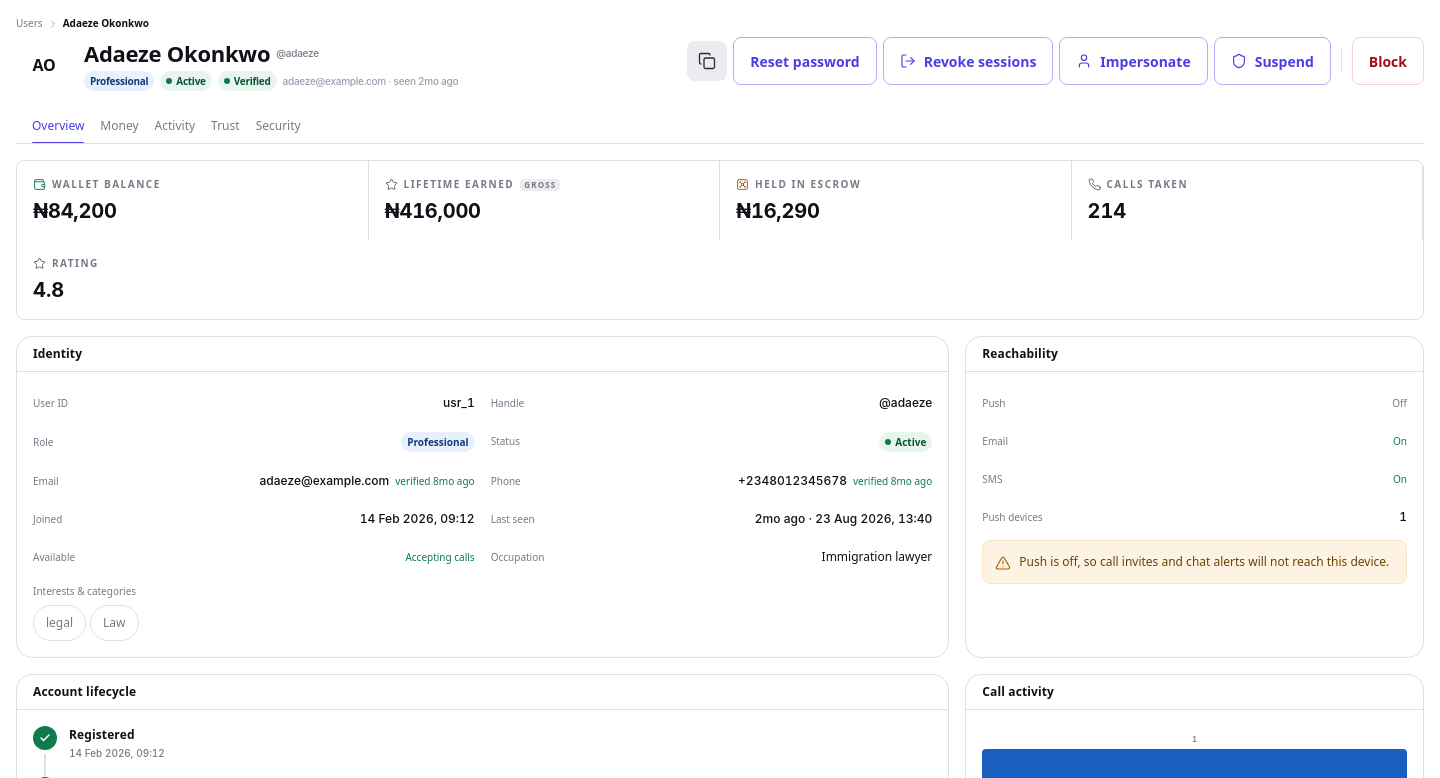
the user detail screen › renders every tab without throwing
Click the tab "Money" at point(120, 126), box [100,109,139,143]
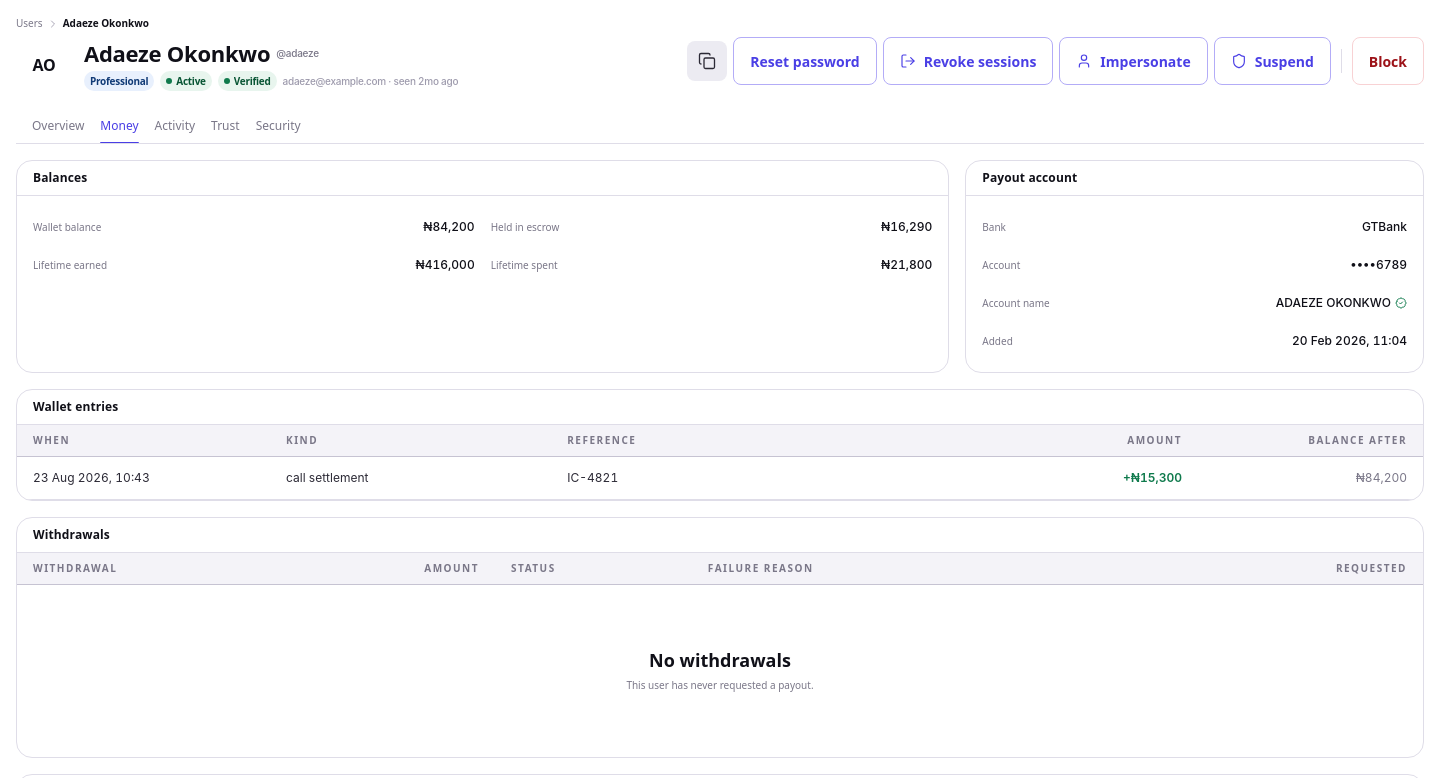
Expected: the text "Payout account" is shown, [982,169,1077,186]
Click the tab "Activity" at point(175, 126), box [155,109,195,143]
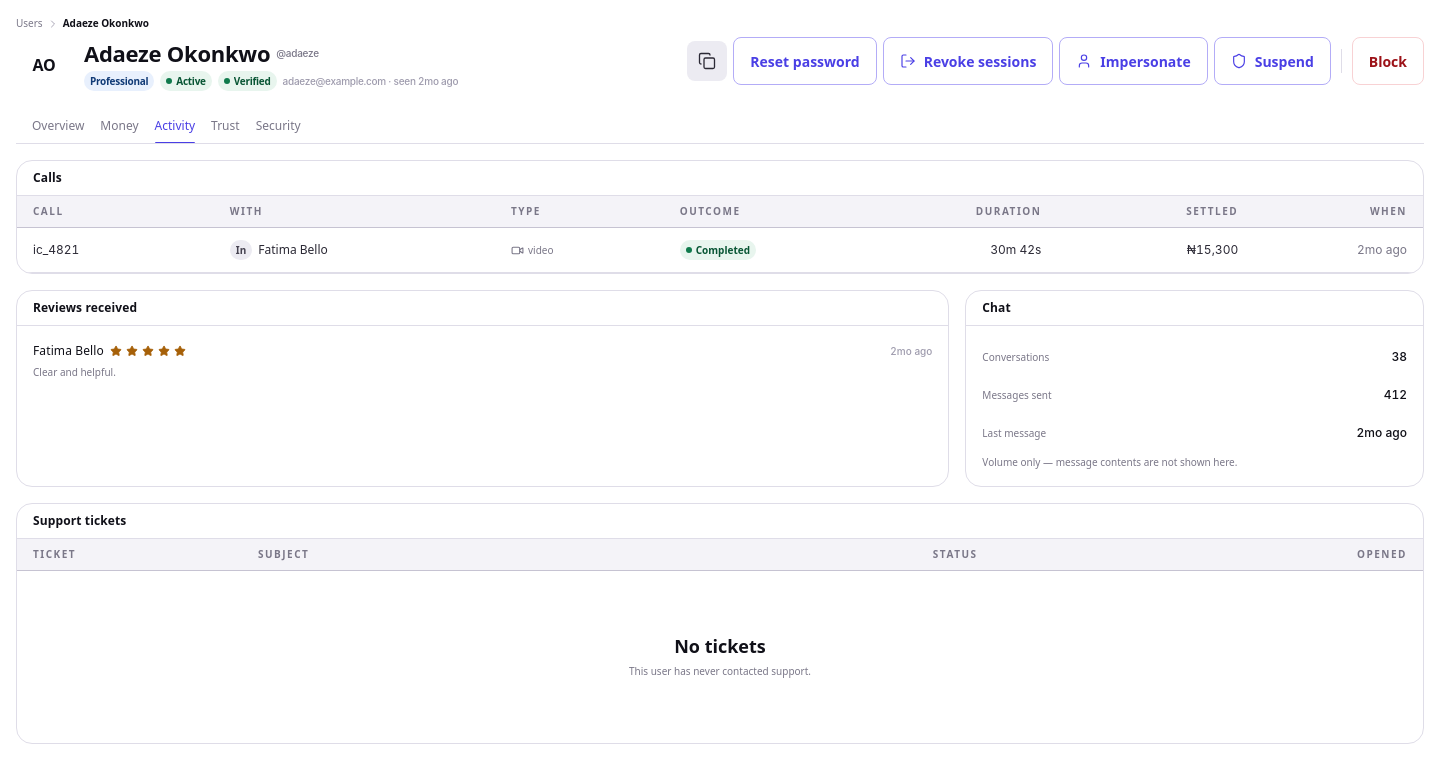
Expected: the text "Support tickets" is shown, [33,512,126,529]
Click the tab "Trust" at point(225, 126), box [211,109,240,143]
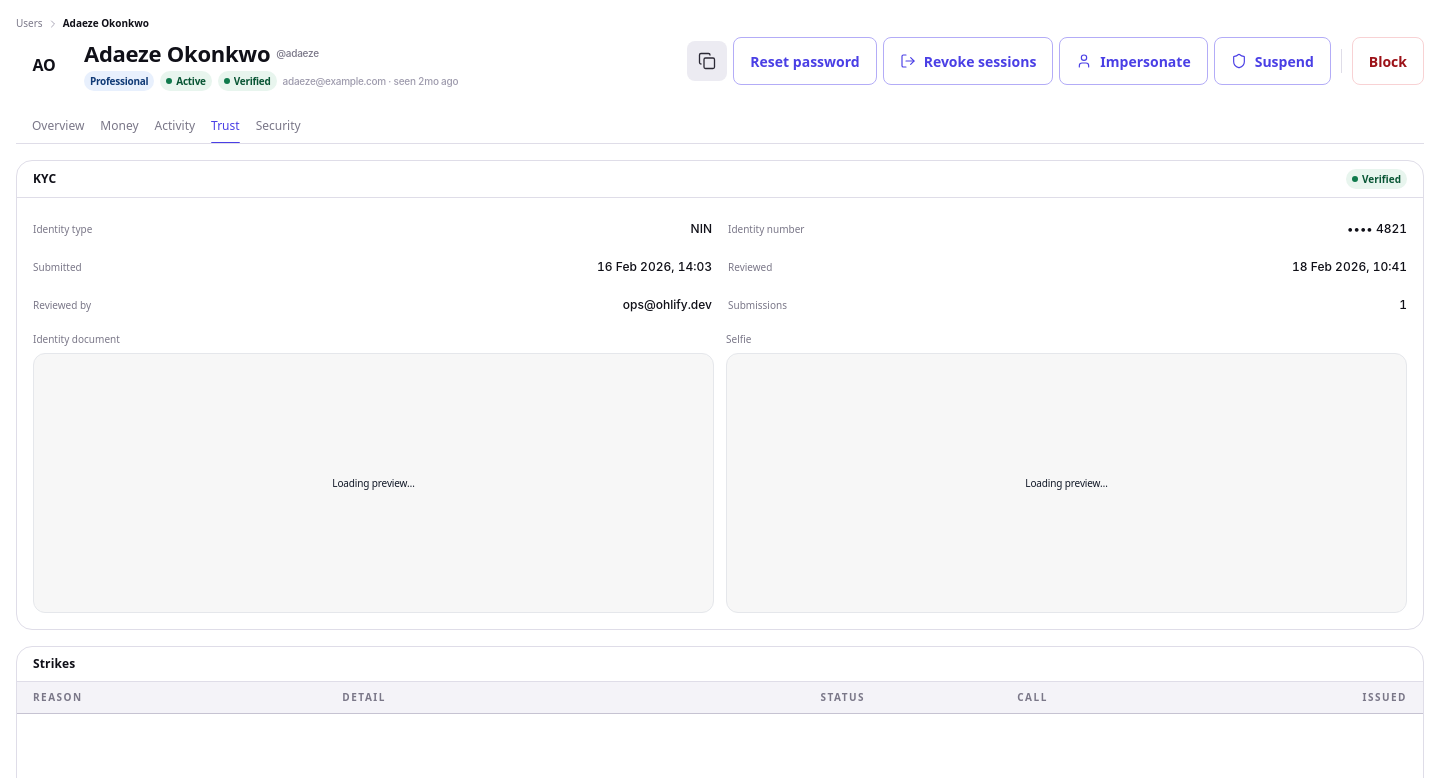
Expected: the text "KYC" is shown, [33,170,56,187]
Click the tab "Security" at point(278, 126), box [256,109,301,143]
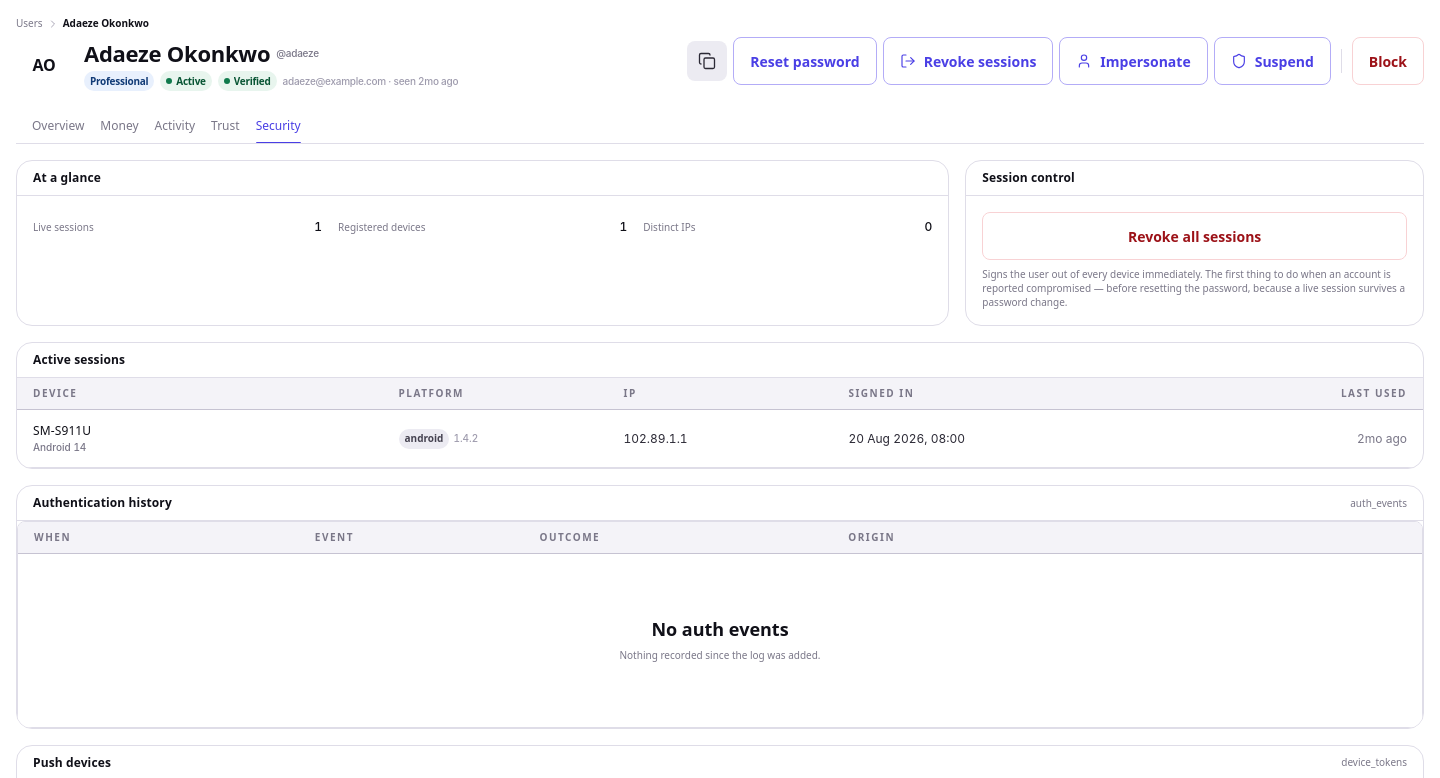
Expected: the text "Active sessions" is shown, [33,351,125,368]
